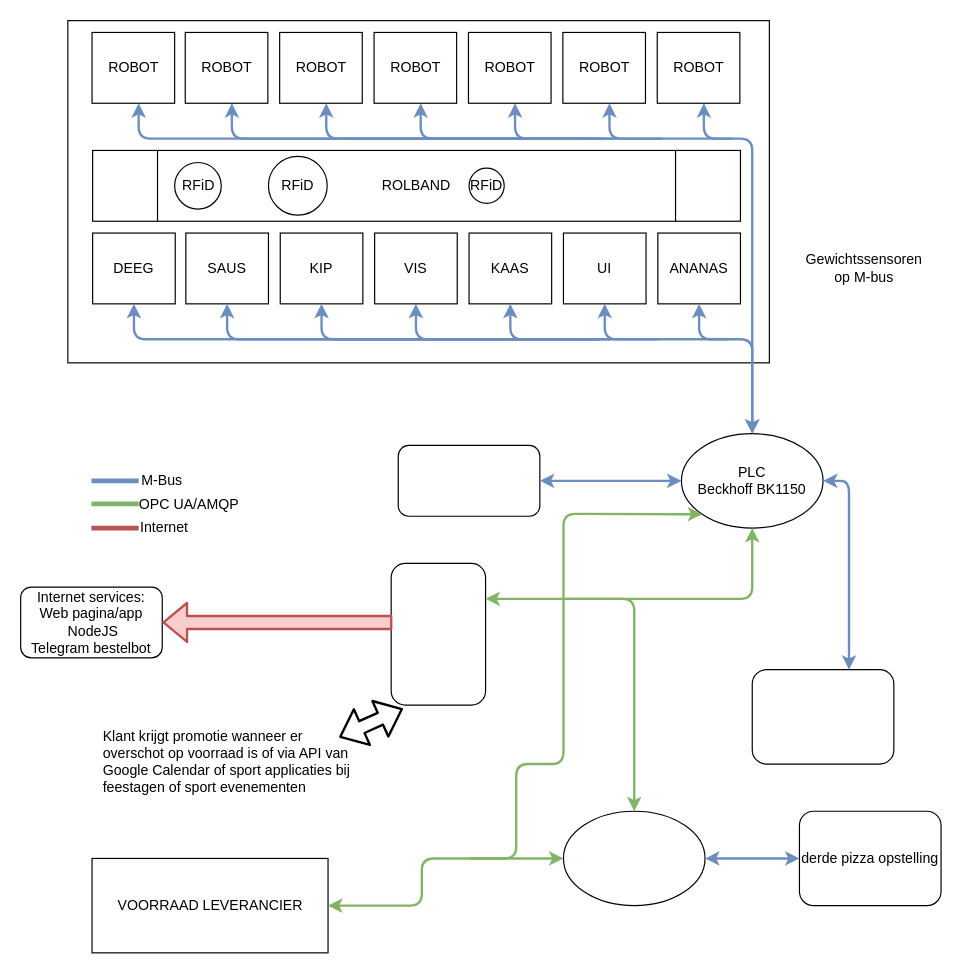
The diagram is 962 pixels wide and 973 high, and some of its shapes have lost their labels. Here are the shapes that lost their labels. From the top down, the centre of each, then its label:
point (468, 480): iEM 3153 Energiemeter
point (438, 633): Raspberry Pi (Host) RabbitMQ JSON Database
point (822, 716): tweede pizza opstelling
point (633, 858): 2de PLC opstelling... "copy paste" op andere locatie
